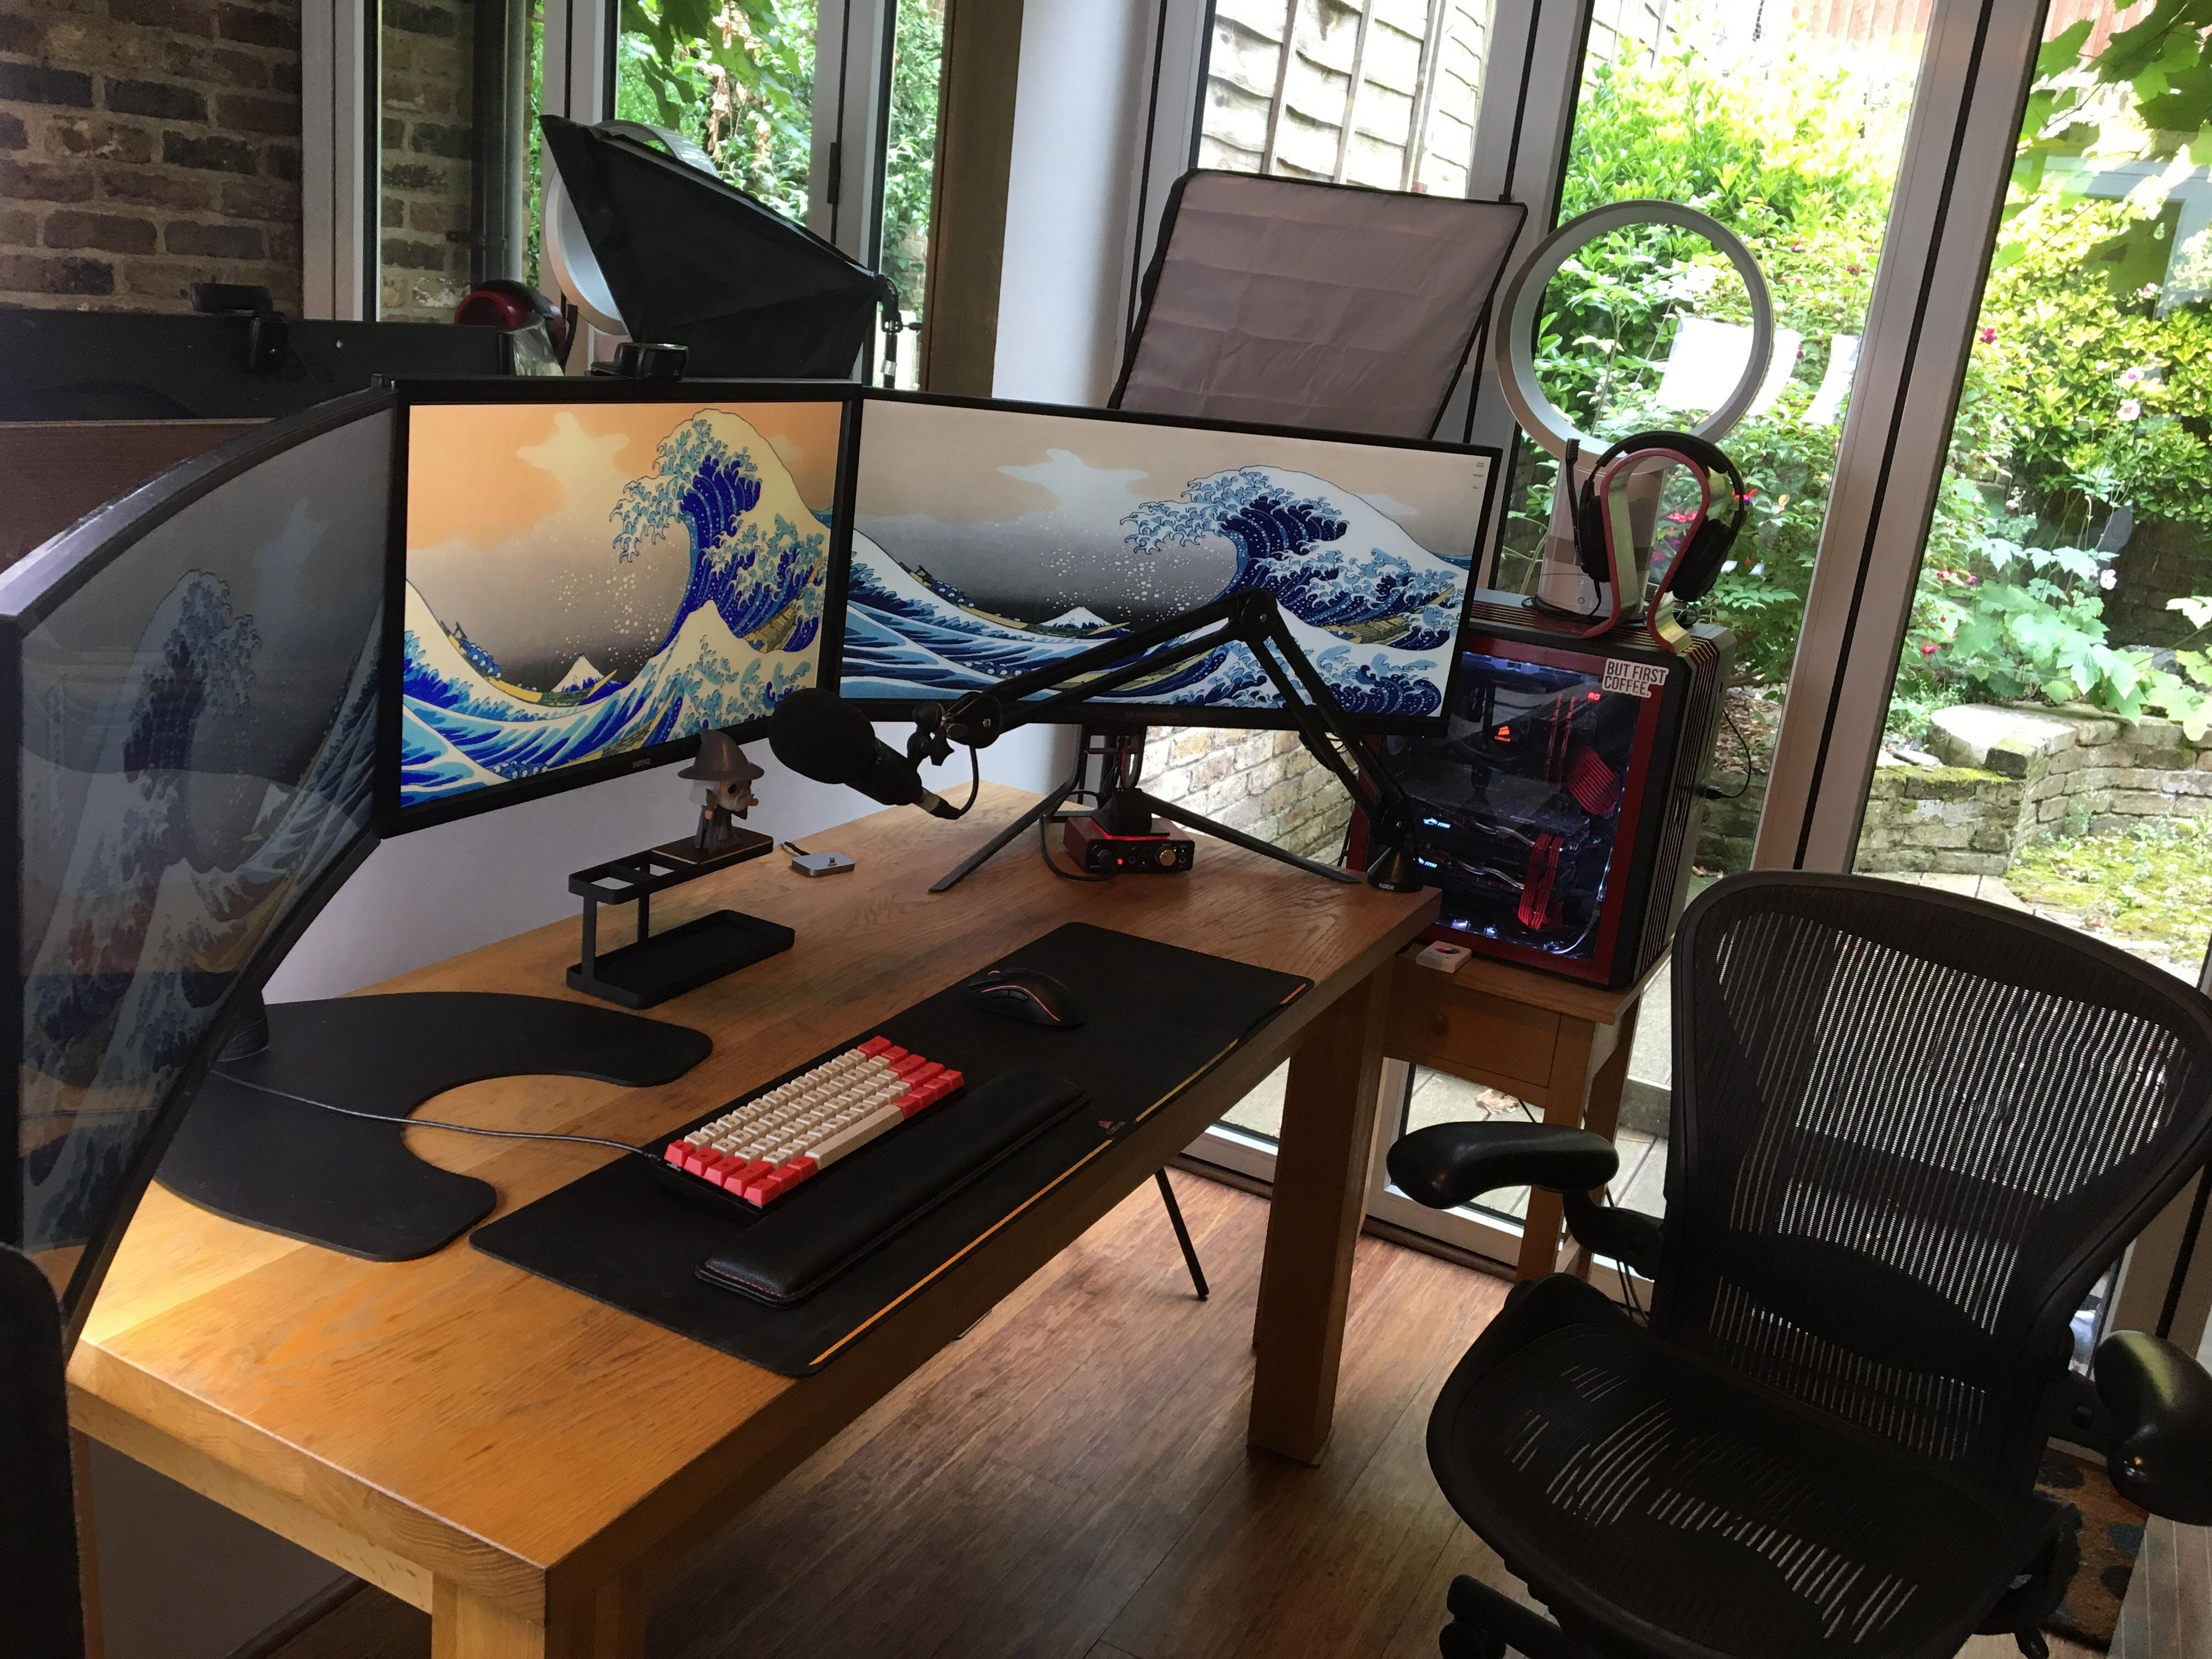Airpods (Apple): (1559, 425, 1747, 647)
Cellphone: (956, 951, 1089, 1033)
Cellphone Charger (Generic): (491, 1060, 1158, 1263), (791, 840, 876, 877)
Chair (Generic): (1390, 864, 2212, 1642)
Desk (Generic): (0, 784, 1423, 1659)
Desktop (Windows): (1341, 598, 1742, 1007)
External Microphone (with Boom Arm): (779, 582, 1468, 903)
External Sound Card (Pre-amplifier): (1050, 810, 1209, 880)
Fan (Desk): (1484, 192, 1785, 624)
Keyboard (Generic): (643, 1025, 916, 1197)
Monitor (Landscape): (0, 376, 388, 1359), (827, 396, 1507, 748), (394, 387, 846, 833)
Monitor Arm: (249, 1014, 456, 1211)
